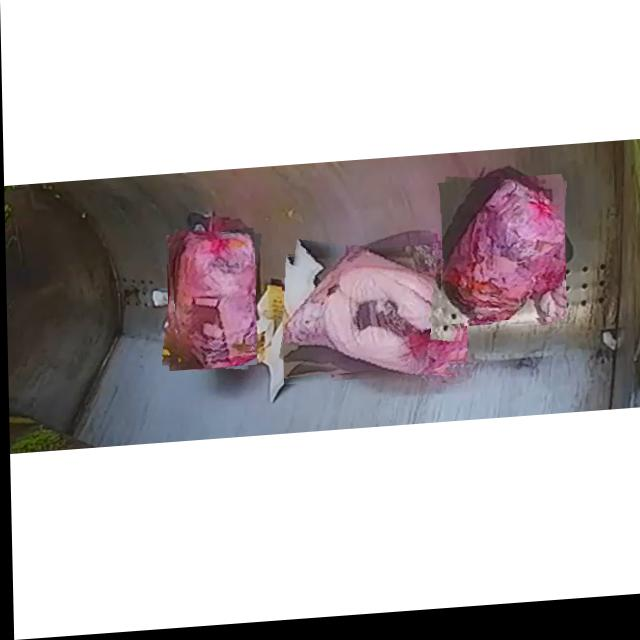other_trashbag: (281, 253, 460, 382), (438, 189, 563, 330), (171, 238, 255, 371)
